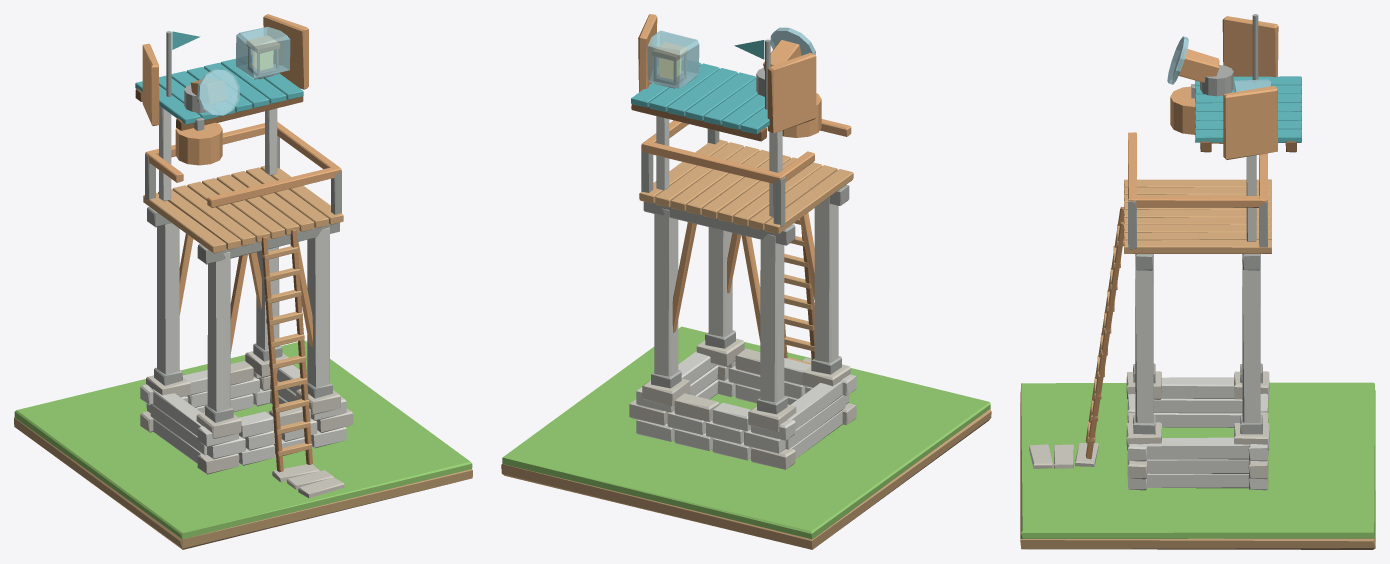
File: tower_l04_active_LOD1.glb
3 views of the same model, side by side, from view 1: azimuth 30°, elevation 25°; view 2: azimuth 150°, elevation 25°; view 3: azimuth 270°, elevation 25° (orthographic). The views are drawn at different scales.
Parts seen in each view (by area): view 1: tower_l04_grass_tile_tower_l04_active_LOD1_tmp, tower_l04_earth_tile_tower_l04_active_LOD1_tmp, post_-0.61_-0.54_tower_l04_active_LOD1_tmp, post_-0.61_0.54_tower_l04_active_LOD1_tmp, post_0.61_-0.54_tower_l04_active_LOD1_tmp, signal_lantern_guard_tower_l04_active_LOD1_tmp, reflector_1_tower_l04_active_LOD1_tmp, bell_tower_l04_active_LOD1_tmp, telescope_lens_tower_l04_active_LOD1_tmp, balcony_rail_-0.66_tower_l04_active_LOD1_tmp, ladder_rail_-0.18_tower_l04_active_LOD1_tmp, deck_board_0_tower_l04_active_LOD1_tmp (+32 smaller); view 2: tower_l04_grass_tile_tower_l04_active_LOD1_tmp, tower_l04_earth_tile_tower_l04_active_LOD1_tmp, post_-0.61_0.54_tower_l04_active_LOD1_tmp, post_-0.61_-0.54_tower_l04_active_LOD1_tmp, post_0.61_0.54_tower_l04_active_LOD1_tmp, reflector_-1_tower_l04_active_LOD1_tmp, signal_lantern_guard_tower_l04_active_LOD1_tmp, post_0.61_-0.54_tower_l04_active_LOD1_tmp, balcony_rail_0.66_tower_l04_active_LOD1_tmp, deck_bearer_0.54_tower_l04_active_LOD1_tmp, deck_board_0_tower_l04_active_LOD1_tmp, stone_return_2_-0.72_tower_l04_active_LOD1_tmp (+38 smaller); view 3: tower_l04_grass_tile_tower_l04_active_LOD1_tmp, tower_l04_earth_tile_tower_l04_active_LOD1_tmp, reflector_1_tower_l04_active_LOD1_tmp, post_0.61_-0.54_tower_l04_active_LOD1_tmp, post_0.61_0.54_tower_l04_active_LOD1_tmp, reflector_-1_tower_l04_active_LOD1_tmp, stone_return_2_0.72_tower_l04_active_LOD1_tmp, deck_board_8_tower_l04_active_LOD1_tmp, stone_return_2_-0.72_tower_l04_active_LOD1_tmp, balcony_side_rail_tower_l04_active_LOD1_tmp, stone_return_0_0.72_tower_l04_active_LOD1_tmp, stone_return_1_0.72_tower_l04_active_LOD1_tmp (+29 smaller).
Boxes of the visible parts, x1,y1,x2,y2 form: tower_l04_grass_tile_tower_l04_active_LOD1_tmp: [14, 340, 472, 539]; tower_l04_earth_tile_tower_l04_active_LOD1_tmp: [14, 417, 472, 549]; post_-0.61_-0.54_tower_l04_active_LOD1_tmp: [207, 252, 230, 411]; post_-0.61_0.54_tower_l04_active_LOD1_tmp: [157, 223, 179, 374]; post_0.61_-0.54_tower_l04_active_LOD1_tmp: [307, 227, 329, 387]; signal_lantern_guard_tower_l04_active_LOD1_tmp: [236, 26, 290, 79]; reflector_1_tower_l04_active_LOD1_tmp: [263, 14, 308, 89]; bell_tower_l04_active_LOD1_tmp: [175, 122, 222, 165]; telescope_lens_tower_l04_active_LOD1_tmp: [197, 69, 239, 115]; balcony_rail_-0.66_tower_l04_active_LOD1_tmp: [207, 167, 341, 207]; ladder_rail_-0.18_tower_l04_active_LOD1_tmp: [261, 236, 283, 472]; deck_board_0_tower_l04_active_LOD1_tmp: [143, 192, 226, 253]; tower_l04_grass_tile_tower_l04_active_LOD1_tmp: [502, 326, 990, 539]; tower_l04_earth_tile_tower_l04_active_LOD1_tmp: [501, 409, 991, 549]; post_-0.61_0.54_tower_l04_active_LOD1_tmp: [760, 234, 784, 402]; post_-0.61_-0.54_tower_l04_active_LOD1_tmp: [814, 197, 838, 362]; post_0.61_0.54_tower_l04_active_LOD1_tmp: [654, 208, 678, 376]; reflector_-1_tower_l04_active_LOD1_tmp: [767, 52, 816, 133]; signal_lantern_guard_tower_l04_active_LOD1_tmp: [648, 30, 699, 88]; post_0.61_-0.54_tower_l04_active_LOD1_tmp: [708, 227, 732, 336]; balcony_rail_0.66_tower_l04_active_LOD1_tmp: [641, 140, 784, 183]; deck_bearer_0.54_tower_l04_active_LOD1_tmp: [643, 201, 795, 245]; deck_board_0_tower_l04_active_LOD1_tmp: [764, 169, 853, 233]; stone_return_2_-0.72_tower_l04_active_LOD1_tmp: [787, 381, 842, 429]; tower_l04_grass_tile_tower_l04_active_LOD1_tmp: [1021, 382, 1374, 538]; tower_l04_earth_tile_tower_l04_active_LOD1_tmp: [1020, 390, 1375, 549]; reflector_1_tower_l04_active_LOD1_tmp: [1223, 85, 1277, 159]; post_0.61_-0.54_tower_l04_active_LOD1_tmp: [1135, 254, 1153, 422]; post_0.61_0.54_tower_l04_active_LOD1_tmp: [1242, 254, 1260, 422]; reflector_-1_tower_l04_active_LOD1_tmp: [1222, 16, 1278, 77]; stone_return_2_0.72_tower_l04_active_LOD1_tmp: [1142, 437, 1249, 459]; deck_board_8_tower_l04_active_LOD1_tmp: [1124, 240, 1271, 253]; stone_return_2_-0.72_tower_l04_active_LOD1_tmp: [1162, 377, 1234, 398]; balcony_side_rail_tower_l04_active_LOD1_tmp: [1130, 196, 1265, 207]; stone_return_0_0.72_tower_l04_active_LOD1_tmp: [1147, 473, 1248, 488]; stone_return_1_0.72_tower_l04_active_LOD1_tmp: [1147, 459, 1248, 473].
Size of the model in its own units: 3.6 by 4.85 by 3.58.
